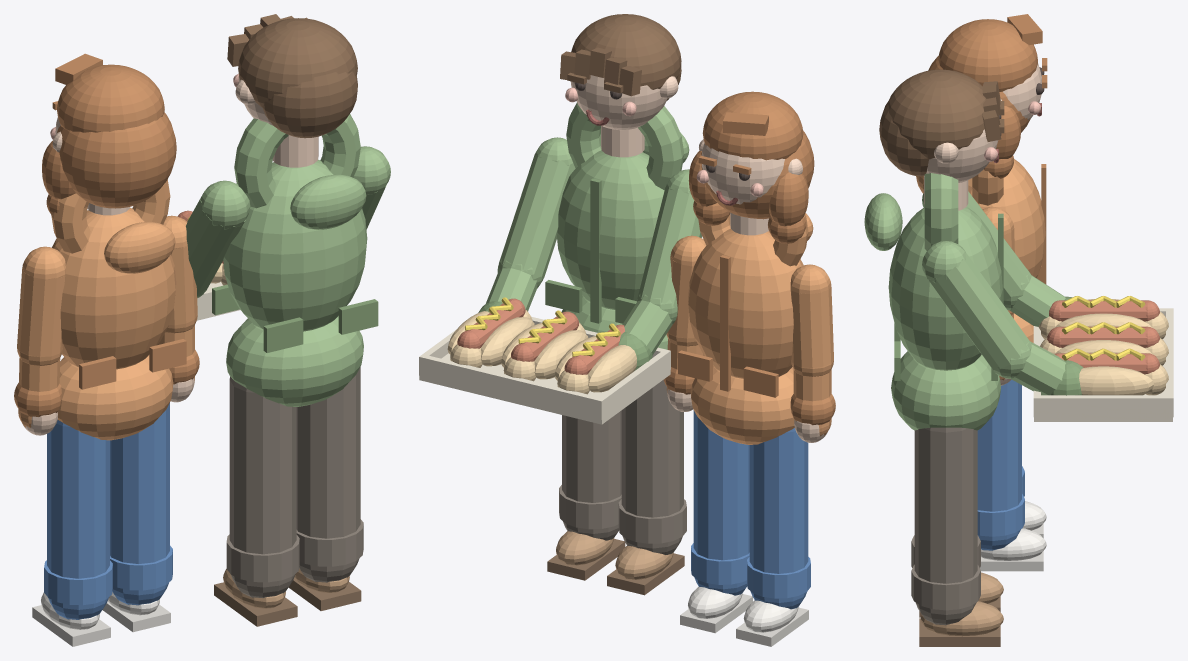
Rendered from 47-hot-dog-customers.glb.
The picture shows the model from 3 angles, left to right: view 1: azimuth 30°, elevation 25°; view 2: azimuth 150°, elevation 25°; view 3: azimuth 270°, elevation 25°; orthographic projection. The views are drawn at different scales.
Visible parts, largest first — view 1: man_torso, wom_torso, man_leg-1, man_leg1, wom_leg-1, man_hips, wom_hairback, wom_leg1, man_haircap, wom_hips, wom_hairtop, man_hoodring (+36 smaller); view 2: wom_torso, man_torso, wom_leg-1, man_leg-1, wom_leg1, wom_hips, man_armU1, man_leg1, man_haircap, wom_hairtop, tray_rimF, man_hoodring (+47 smaller); view 3: man_leg1, man_torso, man_haircap, man_hips, man_armU1, wom_hairtop, wom_leg1, wom_torso, man_hoodring, tray_rimR, man_cuff1, hd2_bun1 (+31 smaller).
Boxes of the visible parts, x1=… form: man_torso: x1=223, y1=159, x2=367, y2=331; wom_torso: x1=52, y1=207, x2=176, y2=369; man_leg-1: x1=229, y1=380, x2=296, y2=554; man_leg1: x1=296, y1=367, x2=360, y2=538; wom_leg-1: x1=47, y1=423, x2=109, y2=578; man_hips: x1=226, y1=316, x2=363, y2=406; wom_hairback: x1=57, y1=112, x2=176, y2=208; wom_leg1: x1=110, y1=403, x2=169, y2=563; man_haircap: x1=238, y1=18, x2=357, y2=107; wom_hips: x1=57, y1=355, x2=173, y2=440; wom_hairtop: x1=57, y1=64, x2=164, y2=132; man_hoodring: x1=234, y1=114, x2=360, y2=208; wom_torso: x1=688, y1=228, x2=803, y2=378; man_torso: x1=557, y1=150, x2=664, y2=309; wom_leg-1: x1=749, y1=431, x2=808, y2=573; man_leg-1: x1=621, y1=380, x2=683, y2=517; wom_leg1: x1=693, y1=410, x2=749, y2=560; wom_hips: x1=690, y1=365, x2=794, y2=444; man_armU1: x1=499, y1=154, x2=575, y2=278; man_leg1: x1=562, y1=410, x2=621, y2=502; man_haircap: x1=571, y1=14, x2=681, y2=89; wom_hairtop: x1=702, y1=91, x2=803, y2=160; tray_rimF: x1=419, y1=355, x2=605, y2=419; man_hoodring: x1=566, y1=102, x2=684, y2=190; man_leg1: x1=914, y1=428, x2=977, y2=583; man_torso: x1=888, y1=207, x2=1002, y2=370; man_haircap: x1=888, y1=69, x2=986, y2=159; man_hips: x1=891, y1=351, x2=1000, y2=430; man_armU1: x1=928, y1=253, x2=1030, y2=370; wom_hairtop: x1=938, y1=19, x2=1037, y2=91; wom_leg1: x1=977, y1=379, x2=1021, y2=511; wom_torso: x1=968, y1=159, x2=1045, y2=277; man_hoodring: x1=924, y1=173, x2=958, y2=250; tray_rimR: x1=1034, y1=395, x2=1172, y2=417; man_cuff1: x1=911, y1=564, x2=980, y2=610; hd2_bun1: x1=1079, y1=366, x2=1153, y2=395.
Bounding box in the file's own units: 0.8201 × 1.3 × 0.6673.
